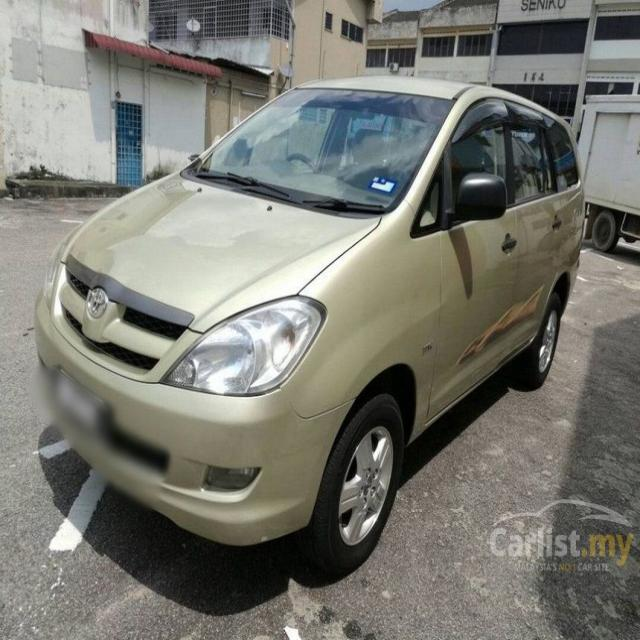light_vehicle: (31, 74, 587, 576)
